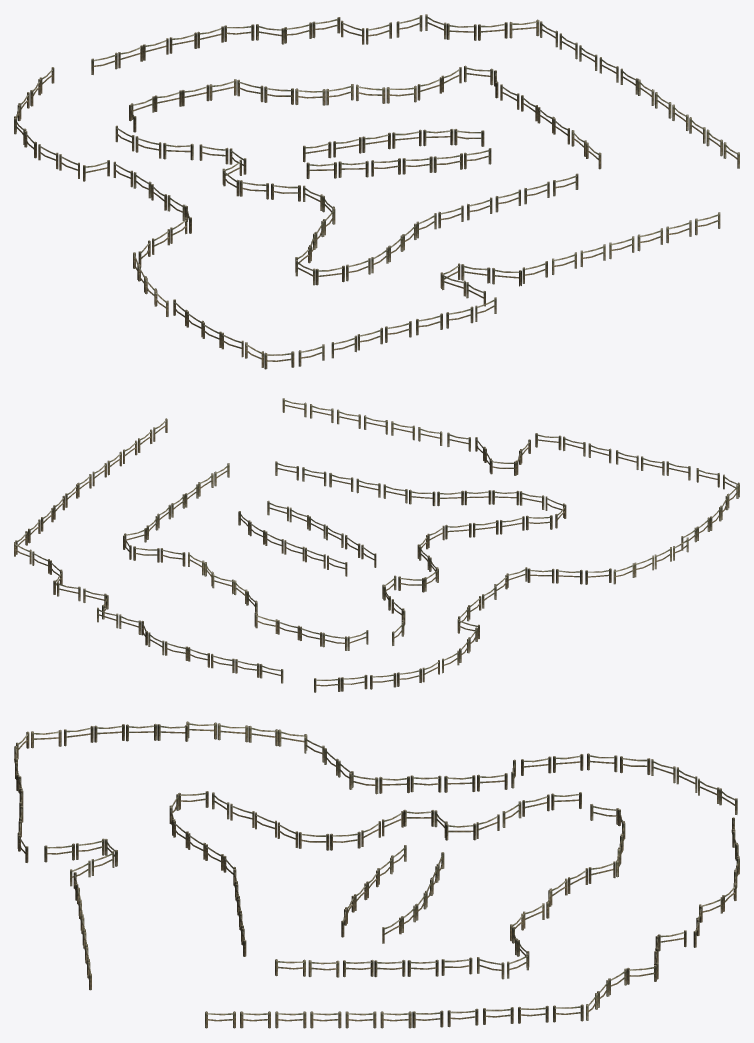
File: mutouweilan_001.FBX
The picture shows the model from 3 angles, top to bottom: view 1: azimuth 30°, elevation 25°; view 2: azimuth 150°, elevation 25°; view 3: azimuth 270°, elevation 25°; orthographic projection. The views are drawn at different scales.
Visible parts, largest first — view 1: mutouweilan_001; view 2: mutouweilan_001; view 3: mutouweilan_001.
Boxes of the visible parts, x1,y1,x2,y2 form: mutouweilan_001: (14, 14, 739, 369); mutouweilan_001: (14, 398, 739, 692); mutouweilan_001: (14, 721, 739, 1028).
Bounding box in the file's own units: 3959 × 101 × 4169.
